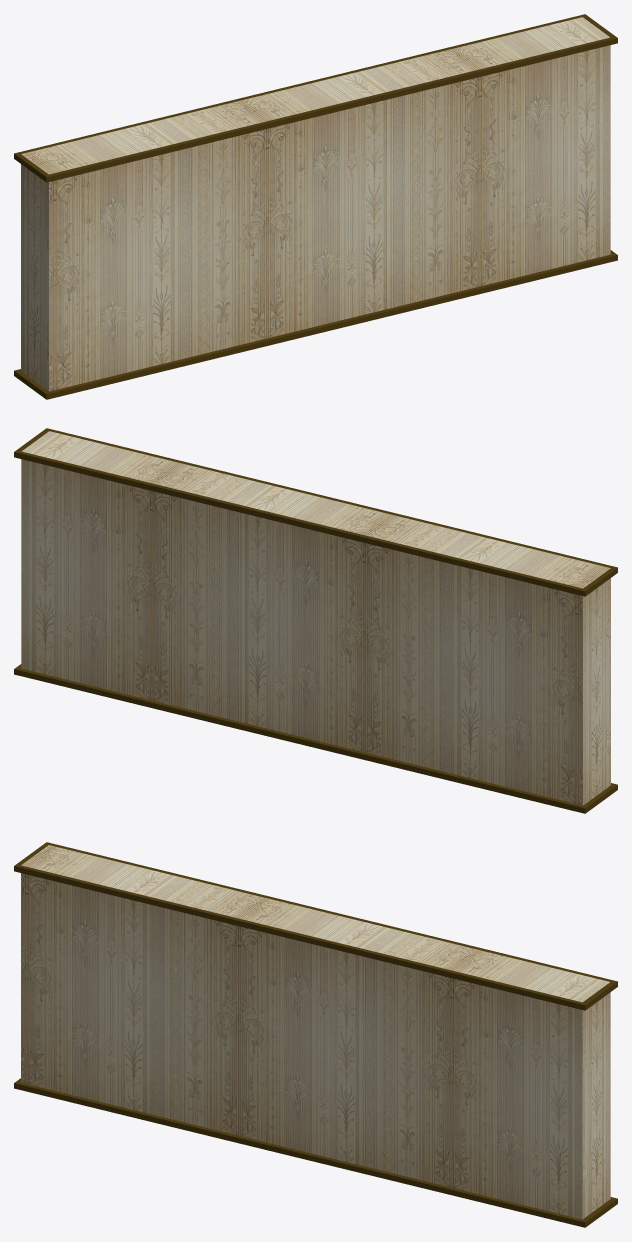
The model's file is Wall_2.fbx.
The picture shows the model from 3 angles, top to bottom: view 1: azimuth 30°, elevation 25°; view 2: azimuth 150°, elevation 25°; view 3: azimuth 330°, elevation 25°; orthographic projection.
Parts seen in each view (by area): view 1: Cube.060, Cube.062, Cube.061; view 2: Cube.060, Cube.062, Cube.061; view 3: Cube.060, Cube.062, Cube.061.
Part boxes in pixels (x1,y1,x2,y2): Cube.060: [21, 17, 610, 391]; Cube.062: [14, 14, 617, 182]; Cube.061: [14, 250, 617, 399]; Cube.060: [21, 431, 610, 805]; Cube.062: [14, 428, 617, 596]; Cube.061: [14, 664, 617, 813]; Cube.060: [21, 845, 610, 1219]; Cube.062: [14, 842, 617, 1010]; Cube.061: [14, 1078, 617, 1227].
Bounding box in the file's own units: 2364 × 880 × 234.
